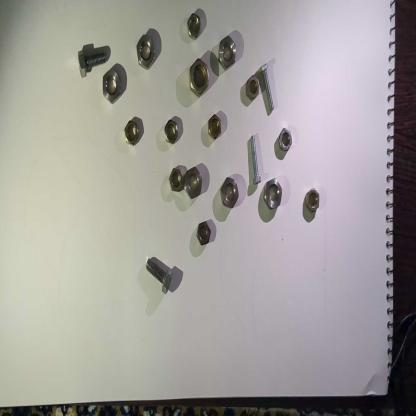Bolts: (142, 255, 176, 297), (256, 64, 278, 117), (76, 48, 110, 78), (249, 132, 262, 190)
NUTS: (134, 31, 156, 76), (187, 53, 210, 96), (100, 67, 124, 107), (217, 34, 237, 75), (183, 164, 205, 199), (263, 179, 283, 212), (303, 187, 322, 221), (218, 176, 238, 208), (124, 114, 141, 149), (276, 127, 294, 158), (194, 219, 213, 247), (162, 116, 179, 146), (205, 112, 223, 140), (168, 164, 184, 195), (186, 11, 202, 40), (247, 76, 261, 105)
